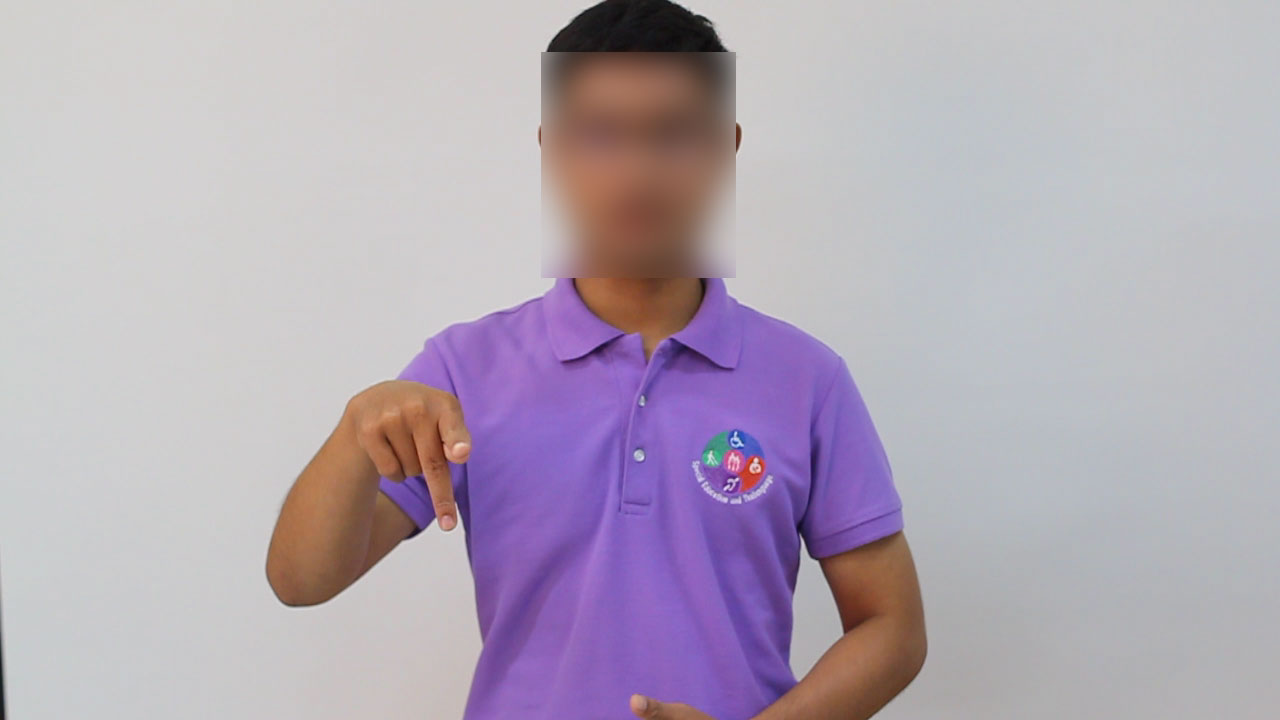por: (333, 356, 484, 544)
